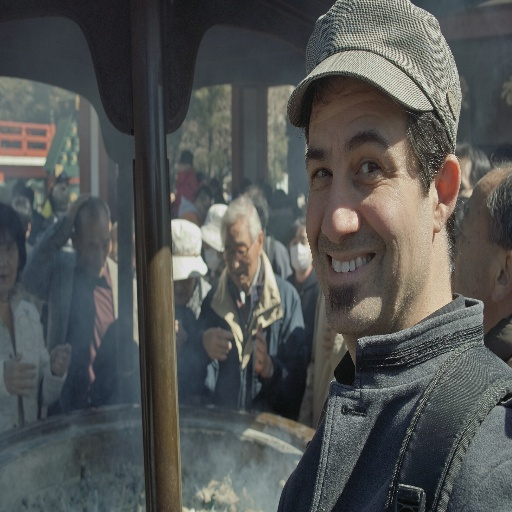hand: (4, 354, 37, 400), (201, 326, 233, 361), (254, 322, 272, 378), (48, 342, 72, 377), (66, 194, 91, 224)
